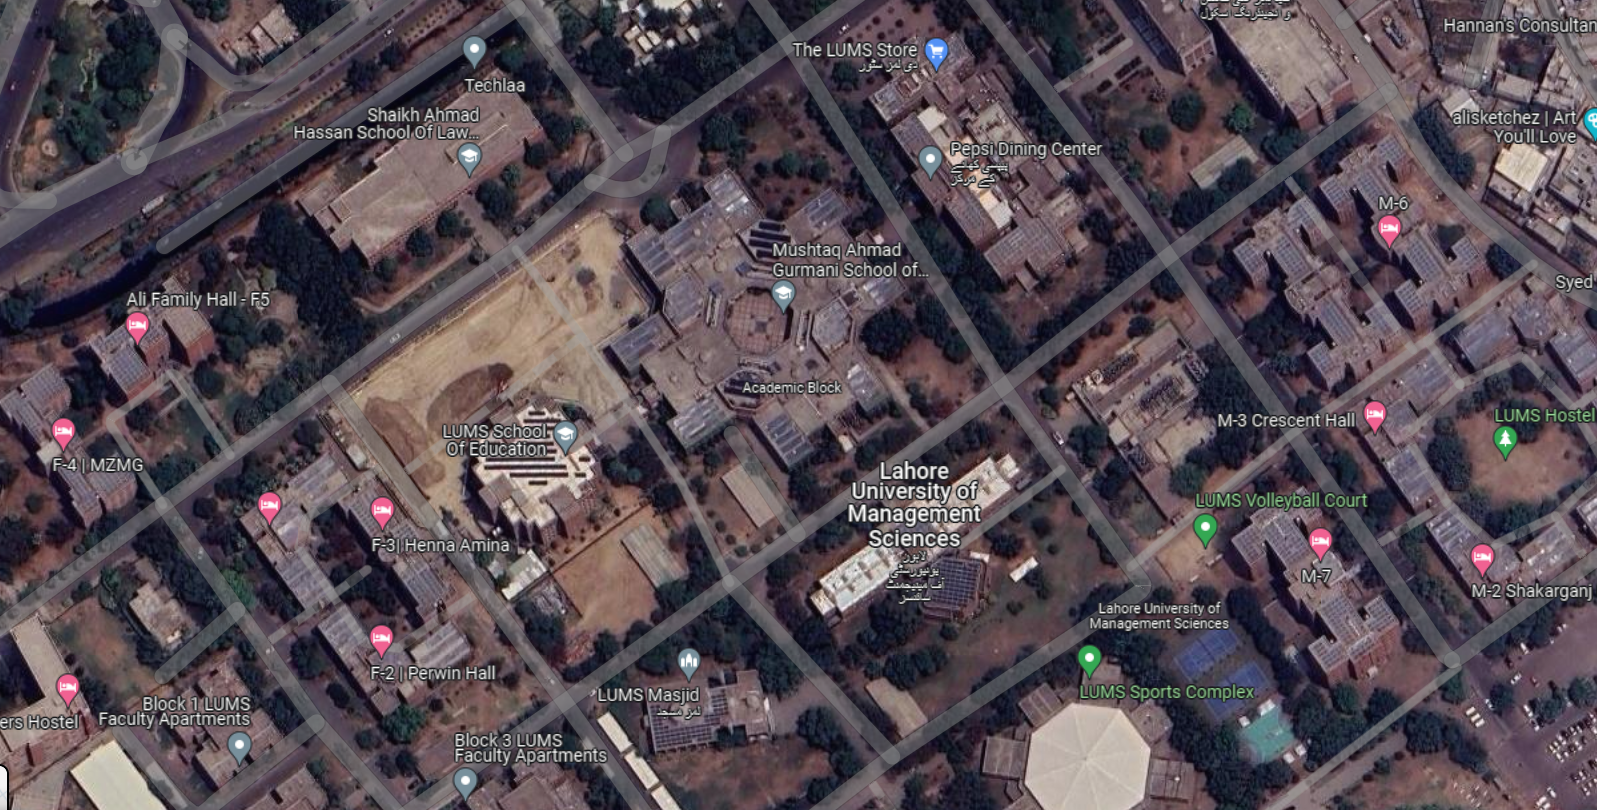solar-panel: (1345, 143, 1488, 305), (1245, 202, 1377, 372), (669, 378, 822, 449), (709, 188, 788, 280), (648, 683, 724, 756), (639, 232, 695, 316), (923, 544, 978, 616), (1433, 508, 1477, 572), (943, 170, 988, 232), (93, 336, 143, 388), (1467, 317, 1510, 367), (797, 193, 851, 228), (1392, 442, 1423, 502), (69, 470, 126, 499), (1008, 235, 1057, 268), (14, 379, 73, 405), (1564, 334, 1597, 379), (881, 106, 919, 145), (1409, 364, 1443, 405), (1518, 301, 1551, 338), (1175, 617, 1176, 620)
